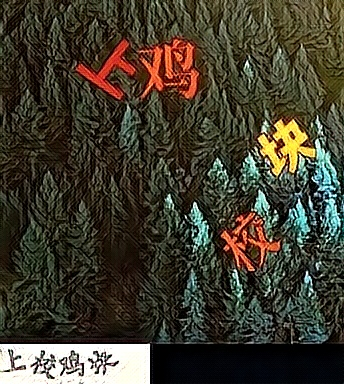BCA6: (137, 33, 200, 99)
BFE9: (255, 113, 318, 179)
C9CF: (73, 34, 136, 100)
D0A3: (217, 208, 280, 274)
